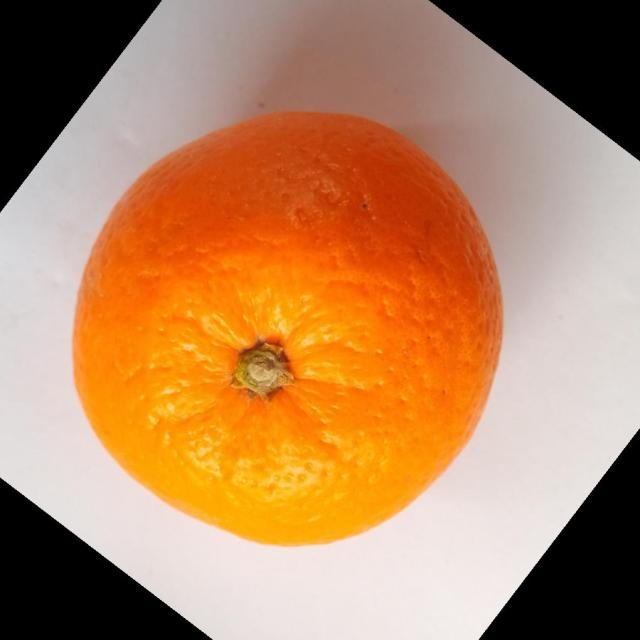agrume: (71, 109, 504, 547)
